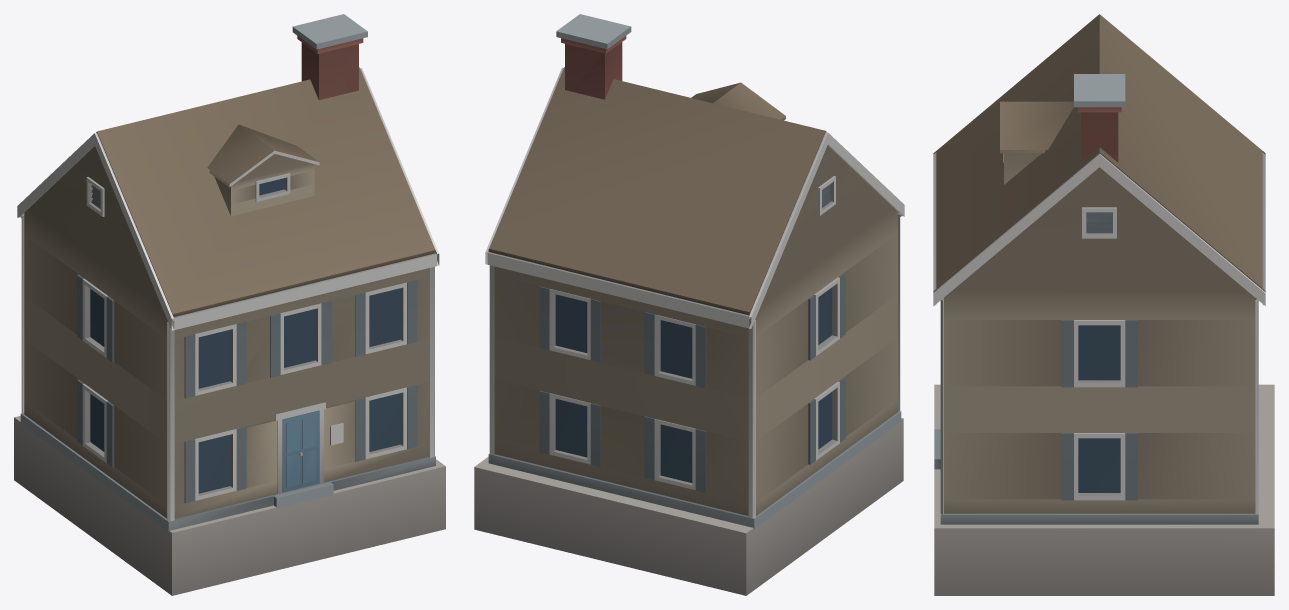
The model's file is villa.glb.
The picture shows the model from 3 angles, left to right: view 1: azimuth 30°, elevation 25°; view 2: azimuth 150°, elevation 25°; view 3: azimuth 270°, elevation 25°; orthographic projection. The views are drawn at different scales.
Parts seen in each view (by area): view 1: villa; view 2: villa; view 3: villa.
Part boxes in pixels (box(x1,y1,x2,y2)): villa: box(14, 14, 445, 595); villa: box(474, 14, 904, 595); villa: box(933, 14, 1274, 595).
Size of the model in its own units: 6.98 by 11.02 by 6.98.
